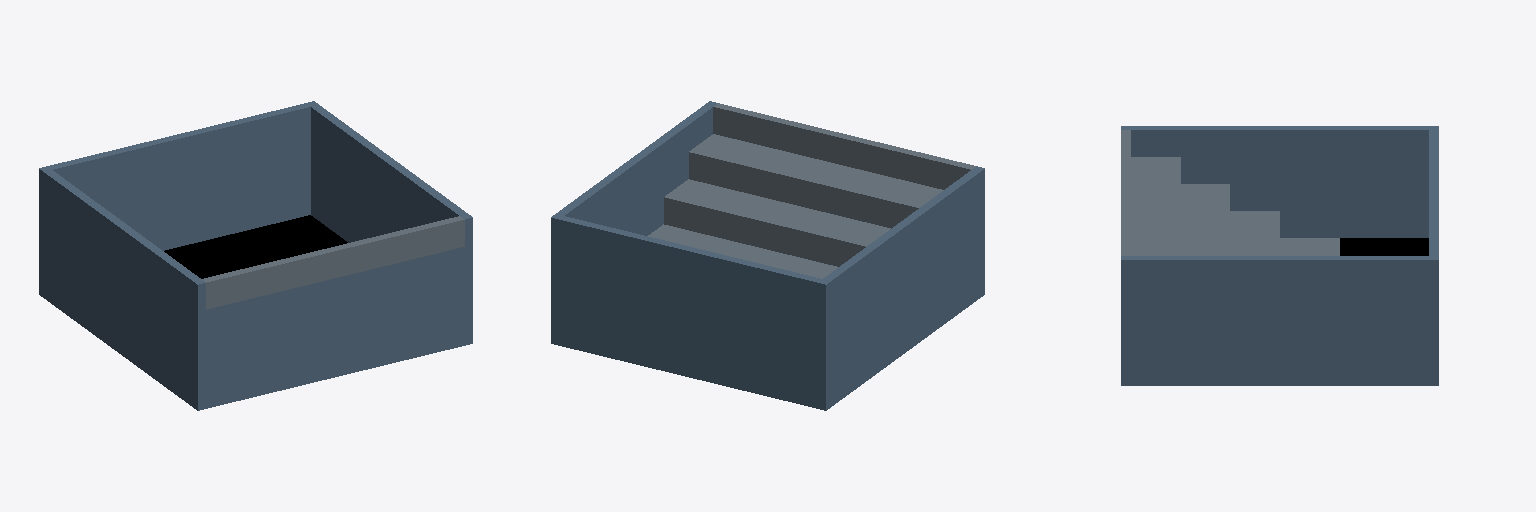
The picture shows the model from 3 angles: view 1: azimuth 30°, elevation 25°; view 2: azimuth 150°, elevation 25°; view 3: azimuth 270°, elevation 25°; orthographic projection.
Parts seen in each view (by area): view 1: 003_down_01; view 2: 003_down_01; view 3: 003_down_01.
Part boxes in pixels (bbox=[...]): 003_down_01: bbox=[39, 101, 472, 410]; 003_down_01: bbox=[551, 101, 984, 410]; 003_down_01: bbox=[1121, 126, 1438, 385].
Bounding box in the file's own units: 32 × 14 × 32.
1 materials, 1 textured.